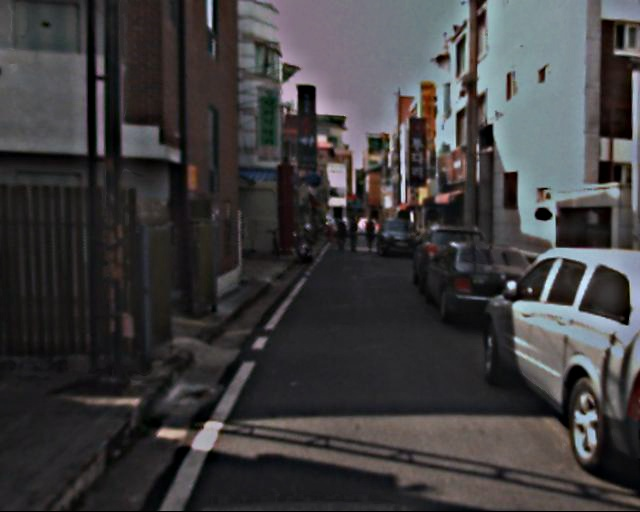person: (334, 217, 350, 257), (361, 218, 377, 258), (347, 217, 362, 254)
